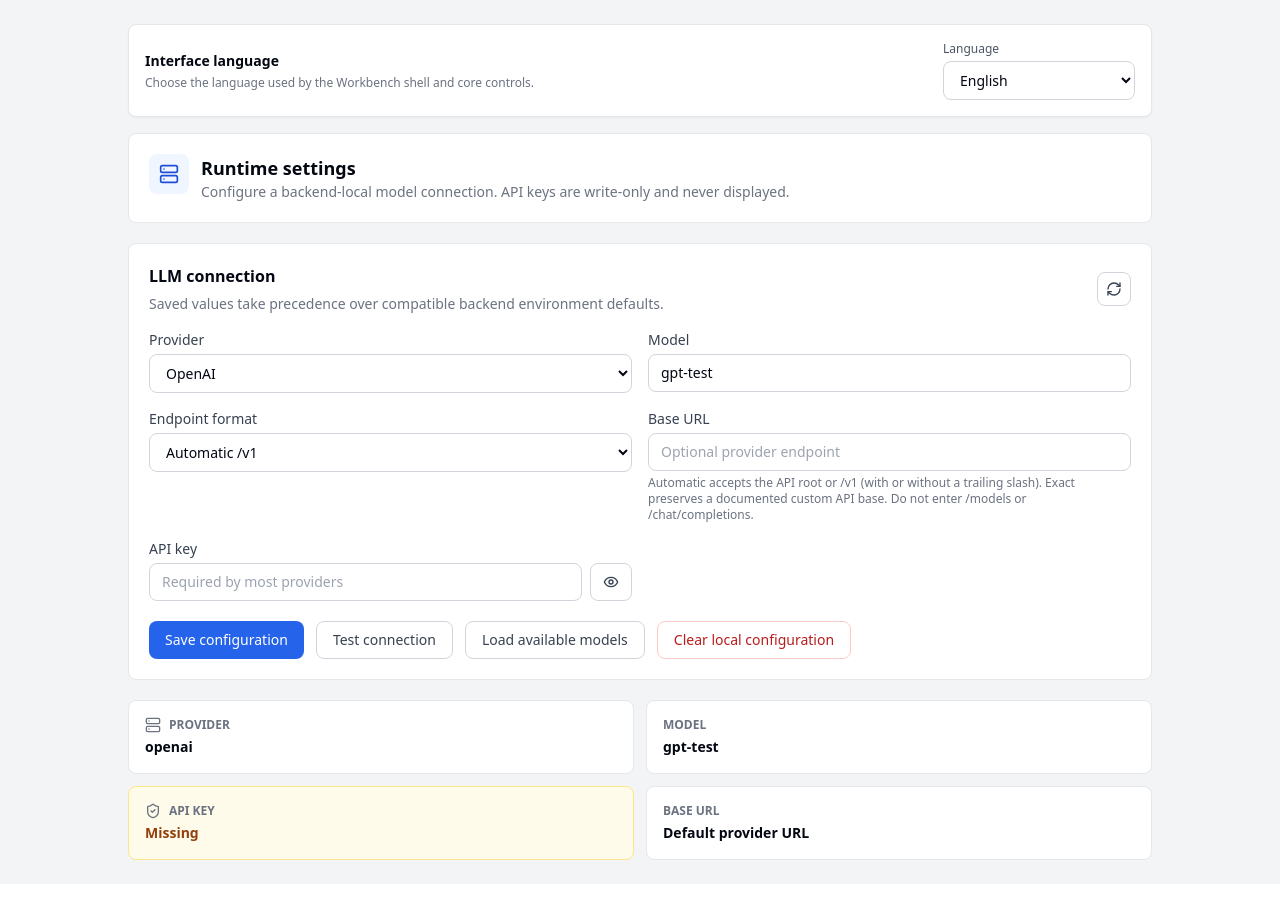
it: SettingsView › renders a safe connection diagnostic and never writes it to storage
Expected: the heading "Runtime settings" is shown, top-left (201, 156), bottom-right (356, 180)
Step 1. Click the button "Test connection" → x=384, y=640, box top-left (316, 621), bottom-right (453, 659)
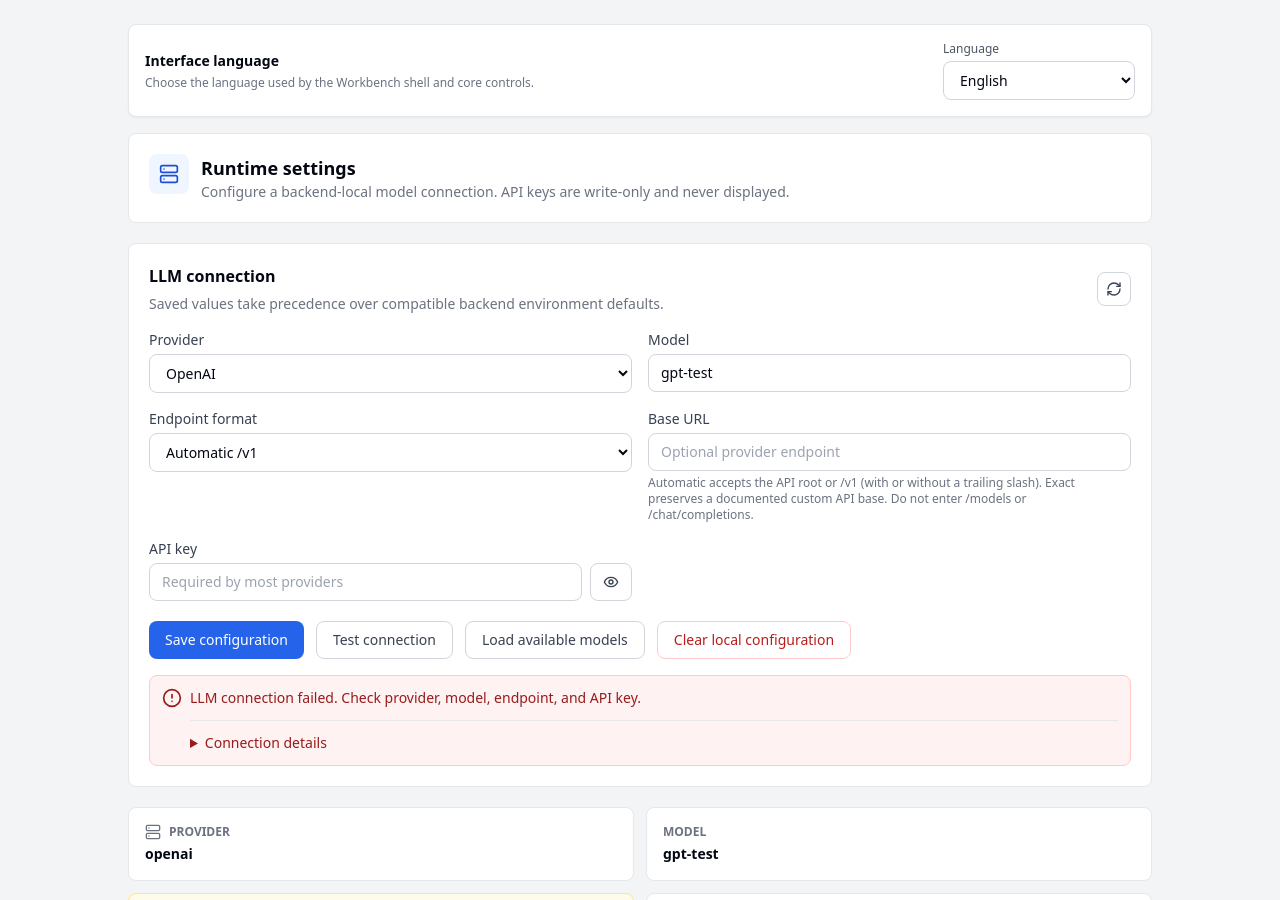
Result: the heading "Connection details" is shown at top-left (205, 733), bottom-right (327, 752)
